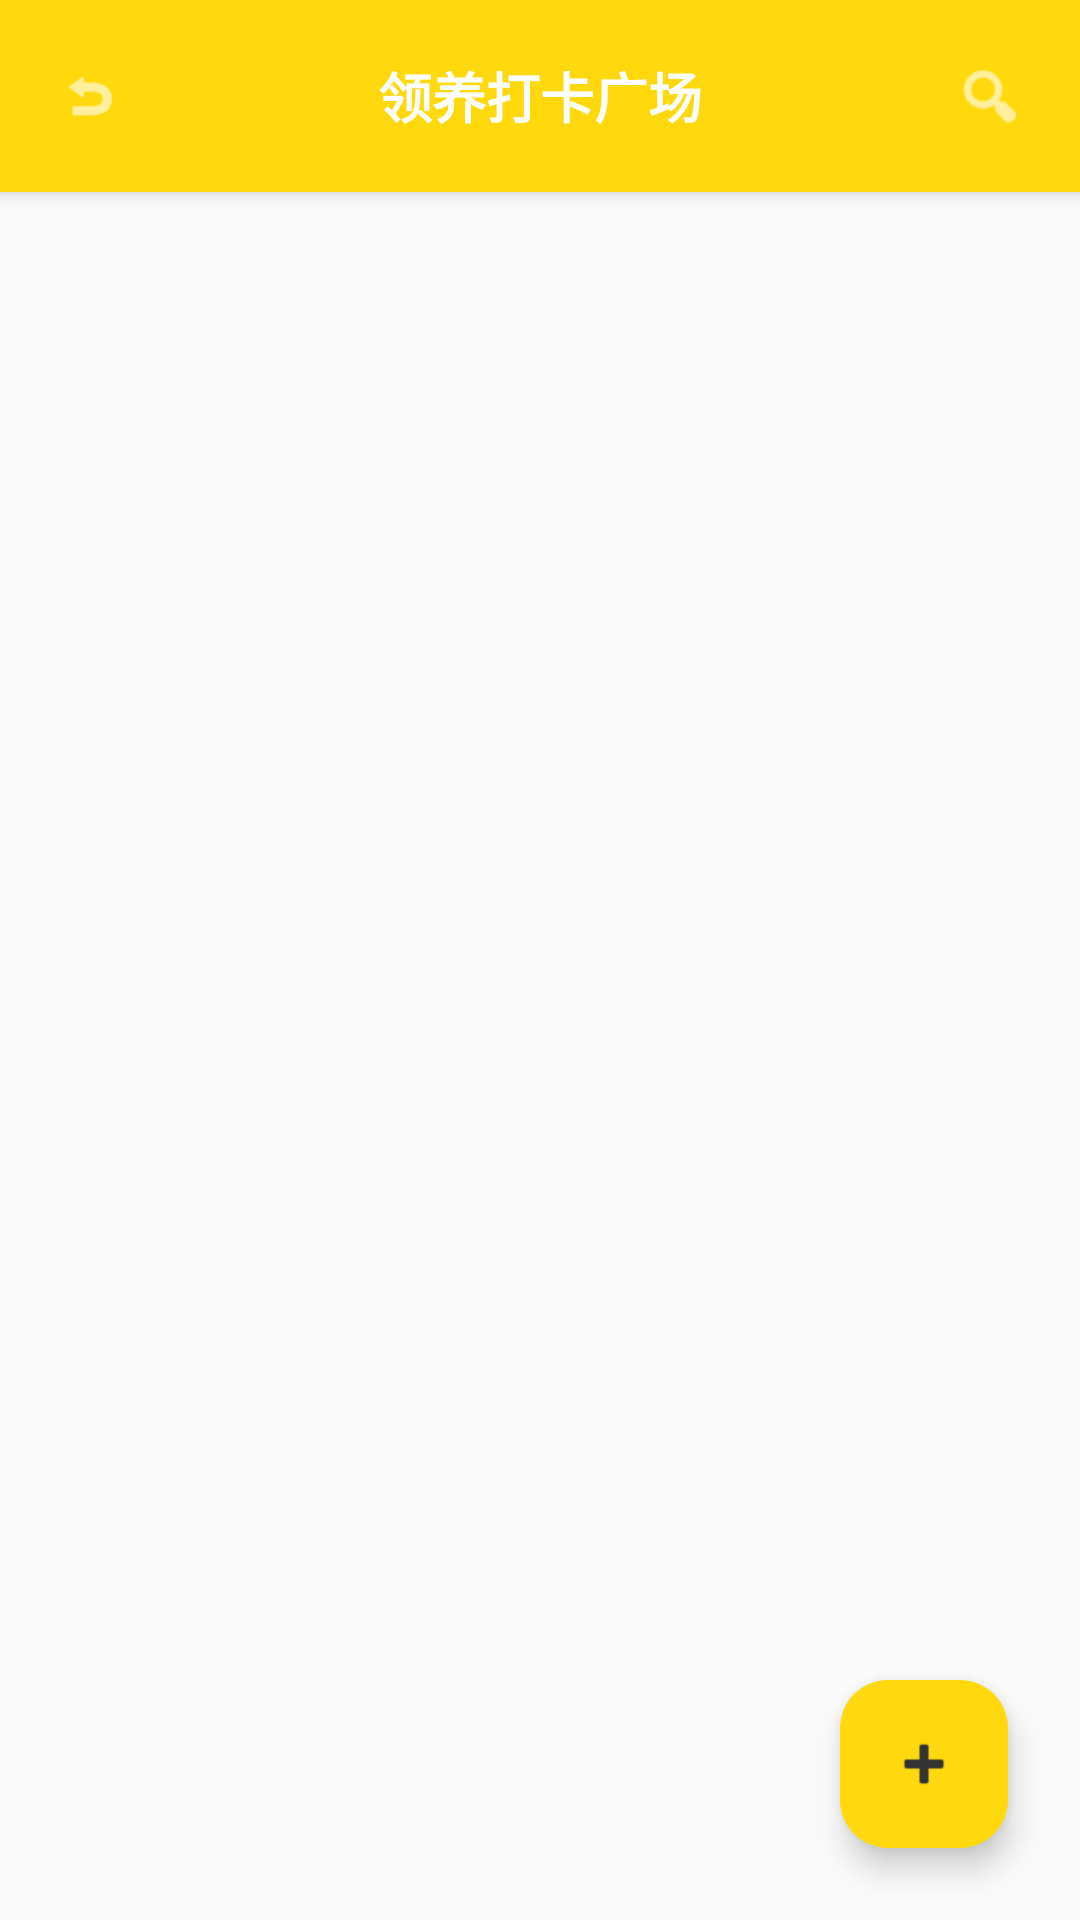

Locate icon controls on the screen. Image size 1080*1920, boxes as BBox(x1, y1, x2, y2).
add: BBox(840, 1680, 1008, 1848)
revert: BBox(69, 77, 112, 116)
search: BBox(963, 70, 1017, 123)
